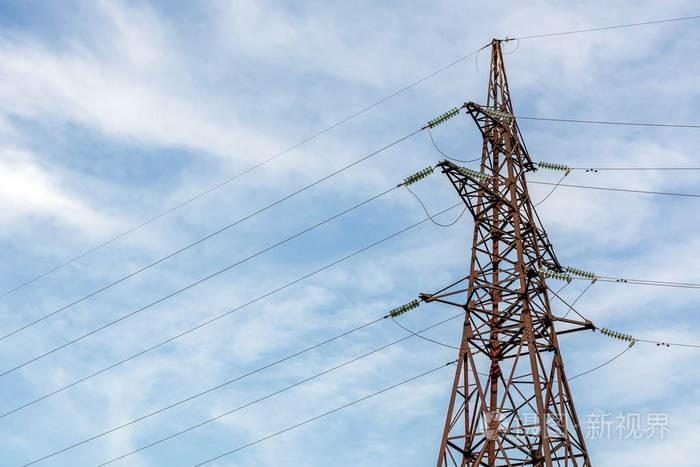power_tower: (401, 26, 623, 467)
